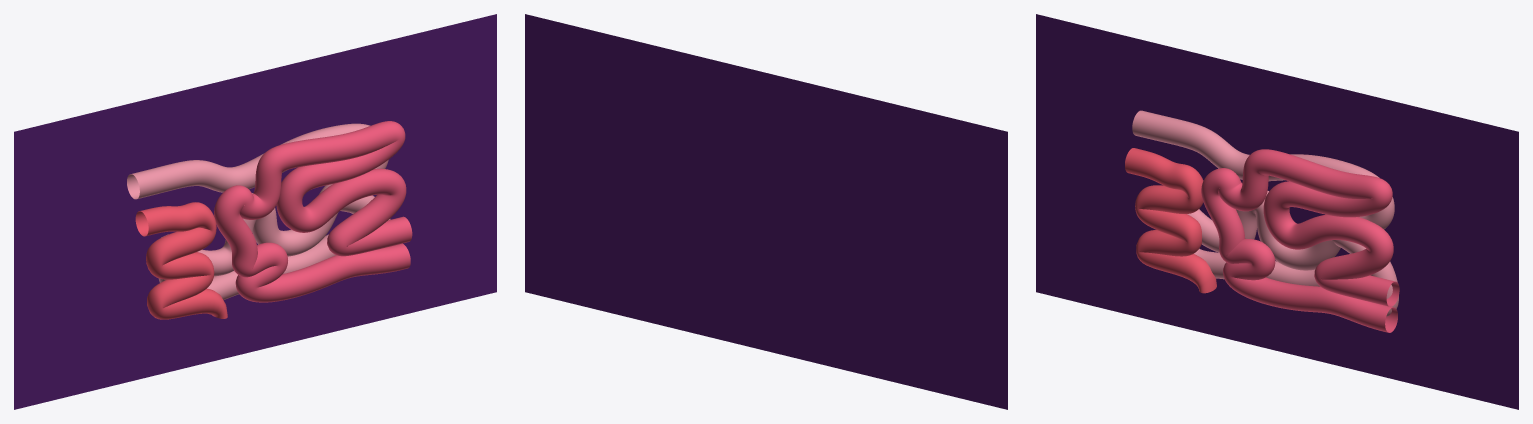
Rendered from TheGuts.glb.
3 views of the same model, side by side, from view 1: azimuth 30°, elevation 25°; view 2: azimuth 150°, elevation 25°; view 3: azimuth 330°, elevation 25° (orthographic).
Visible parts, largest first — view 1: Background, FrontRVein, MiddleVein, FrontLVein; view 2: Background; view 3: Background, FrontRVein, MiddleVein, FrontLVein.
Boxes of the visible parts, x1,y1,x2,y2 form: Background: (14, 14, 496, 409); FrontRVein: (214, 121, 412, 302); MiddleVein: (127, 123, 390, 299); FrontLVein: (135, 202, 227, 319); Background: (525, 14, 1007, 409); Background: (1036, 14, 1518, 409); FrontRVein: (1201, 149, 1399, 332); MiddleVein: (1132, 110, 1398, 316); FrontLVein: (1125, 148, 1216, 293).
Bounding box in the file's own units: 19.22 × 10.58 × 1.64.
